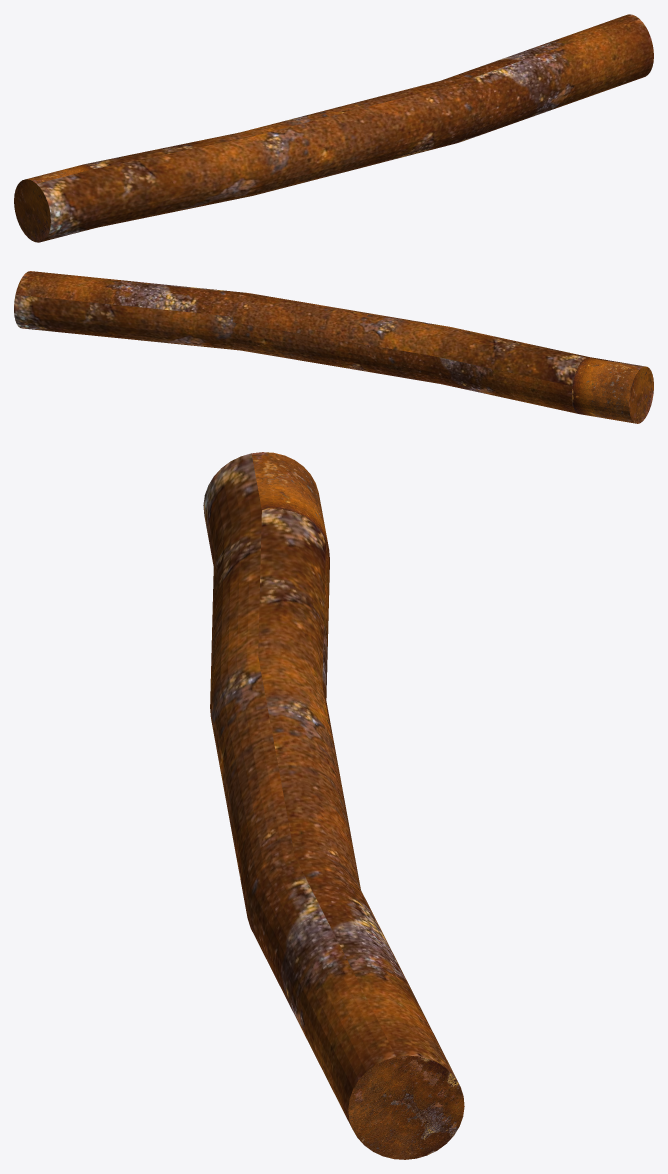
The model's file is Fierro2.fbx.
The picture shows the model from 3 angles, top to bottom: view 1: azimuth 30°, elevation 25°; view 2: azimuth 150°, elevation 25°; view 3: azimuth 270°, elevation 25°; orthographic projection. The views are drawn at different scales.
Parts seen in each view (by area): view 1: Fierro.003; view 2: Fierro.003; view 3: Fierro.003.
Boxes of the visible parts, left/top/right/bottom form: Fierro.003: left=14, top=14, right=653, bottom=242; Fierro.003: left=14, top=271, right=653, bottom=423; Fierro.003: left=203, top=452, right=464, bottom=1159.
Size of the model in its own units: 653 by 77.2 by 127.
